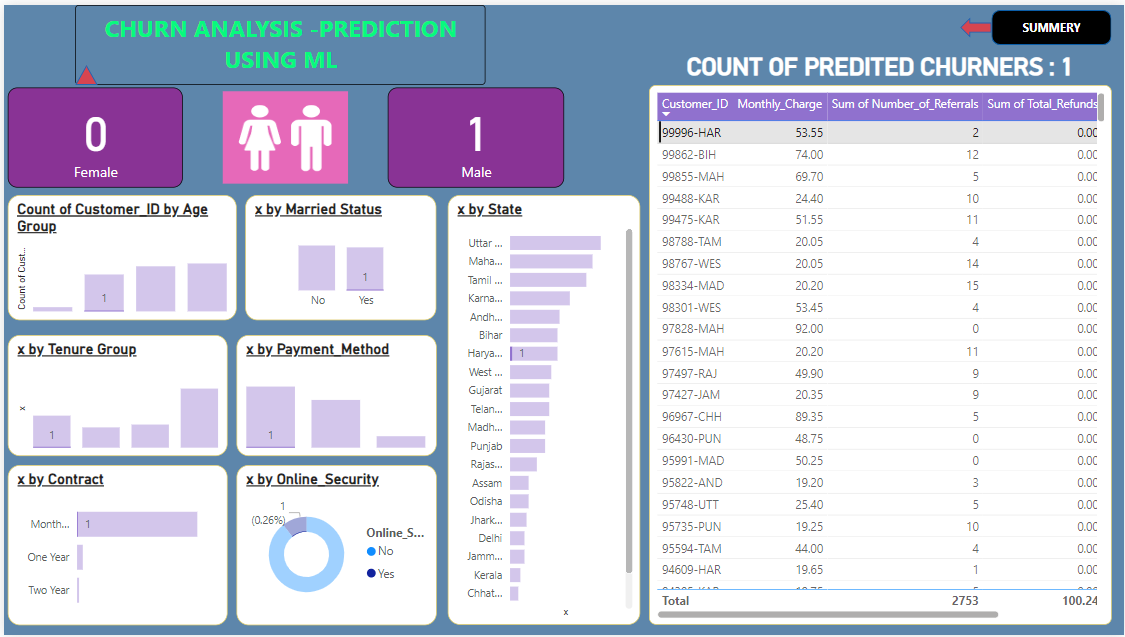

The page's visual inventory and layout, read from the dashboard file:
{"tool":"powerbi","page":{"name":"Churn  Prediction","canvas":[1280,720],"ordinal":2},"visuals":[{"type":"tableEx","fields":{"Values":["Prediction_Data.Customer_ID","Prediction_Data.Monthly_Charge","Sum(Prediction_Data.Number_of_Referrals)","Sum(Prediction_Data.Total_Refunds)","Sum(Prediction_Data.Total_Revenue)"]},"box":[737.1,91.4,528.6,617.1],"z":0},{"type":"card","fields":{"Values":["tbl_Measures.Title Predicted Churner"]},"box":[737.1,45.7,528.6,45.7],"z":1000},{"type":"card","fields":{"Values":["tbl_Measures.Count Prediction Churner"]},"box":[4.3,94.3,200,114.3],"z":2000},{"type":"card","fields":{"Values":["tbl_Measures.Count Prediction Churner"]},"box":[438.6,94.3,201.4,114.3],"z":3000},{"type":"clusteredColumnChart","fields":{"Category":["mapping_AgeGrp.Age Group"],"Y":["CountNonNull(Prediction_Data.Customer_ID)"]},"box":[4.3,217.1,261.4,142.9],"z":4000},{"type":"clusteredColumnChart","fields":{"Y":["CountNonNull(Prediction_Data.Customer_ID)"],"Category":["Prediction_Data.Married"]},"box":[275.7,217.1,218.6,142.9],"z":5000},{"type":"clusteredColumnChart","fields":{"Y":["CountNonNull(Prediction_Data.Customer_ID)"],"Category":["mapping_TenureGrp.Tenure Group"]},"box":[4.3,377.1,251.4,138.6],"z":6000},{"type":"clusteredColumnChart","fields":{"Y":["CountNonNull(Prediction_Data.Customer_ID)"],"Category":["Prediction_Data.Payment_Method"]},"box":[265.7,377.1,228.6,138.6],"z":7000},{"type":"clusteredBarChart","fields":{"Category":["Prediction_Data.Contract"],"Y":["CountNonNull(Prediction_Data.Customer_ID)"]},"box":[4.3,525.7,251.4,182.9],"z":8000},{"type":"clusteredBarChart","fields":{"Y":["CountNonNull(Prediction_Data.Customer_ID)"],"Category":["Prediction_Data.State"]},"box":[507.1,217.1,220,491.4],"z":9000},{"type":"textbox","box":[81.4,0,468.6,91.4],"z":10000},{"type":"shape","box":[81.4,68.6,25.7,22.9],"z":11000},{"type":"image","box":[250,98.6,142.9,105.7],"z":12000},{"type":"donutChart","fields":{"Category":["Prediction_Data.Online_Security"],"Y":["CountNonNull(Prediction_Data.Customer_ID)"]},"box":[265.7,525.7,228.6,182.9],"z":12001},{"type":"shape","box":[1128.6,5.7,137.1,40],"z":12002},{"type":"shape","box":[1092.9,14.3,35.7,22.9],"z":12003}]}

Visuals, with their boxes in screenshot pixels (x1, y1, x2, y2), scaled from the page's 1280x720 canvas onto the 1125x637 screenshot:
tableEx - Prediction_Data.Customer_ID x Prediction_Data.Monthly_Charge: <region>648, 81, 1112, 627</region>
card - tbl_Measures.Title Predicted Churner: <region>648, 40, 1112, 81</region>
card - tbl_Measures.Count Prediction Churner: <region>4, 83, 180, 185</region>
card - tbl_Measures.Count Prediction Churner: <region>385, 83, 562, 185</region>
clusteredColumnChart - mapping_AgeGrp.Age Group x CountNonNull(Prediction_Data.Customer_ID): <region>4, 192, 234, 318</region>
clusteredColumnChart - CountNonNull(Prediction_Data.Customer_ID) x Prediction_Data.Married: <region>242, 192, 434, 318</region>
clusteredColumnChart - CountNonNull(Prediction_Data.Customer_ID) x mapping_TenureGrp.Tenure Group: <region>4, 334, 225, 456</region>
clusteredColumnChart - CountNonNull(Prediction_Data.Customer_ID) x Prediction_Data.Payment_Method: <region>234, 334, 434, 456</region>
clusteredBarChart - Prediction_Data.Contract x CountNonNull(Prediction_Data.Customer_ID): <region>4, 465, 225, 627</region>
clusteredBarChart - CountNonNull(Prediction_Data.Customer_ID) x Prediction_Data.State: <region>446, 192, 639, 627</region>
textbox: <region>72, 0, 483, 81</region>
shape: <region>72, 61, 94, 81</region>
image: <region>220, 87, 345, 181</region>
donutChart - Prediction_Data.Online_Security x CountNonNull(Prediction_Data.Customer_ID): <region>234, 465, 434, 627</region>
shape: <region>992, 5, 1112, 40</region>
shape: <region>961, 13, 992, 33</region>
